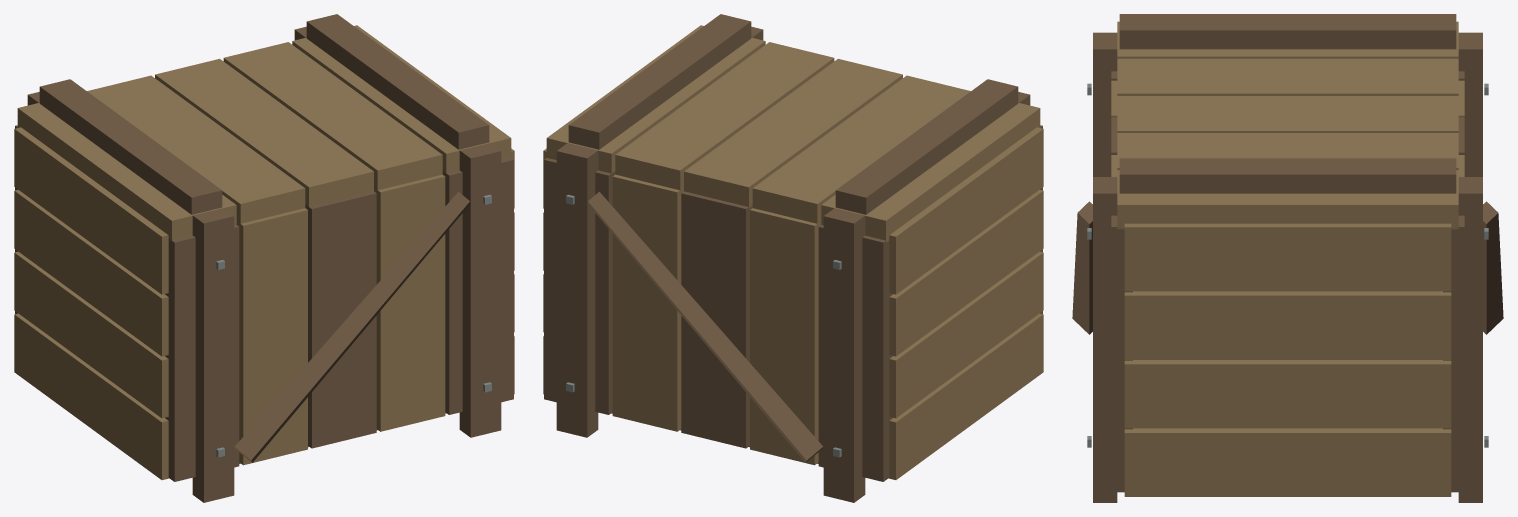
File: wooden_crate.glb
3 views of the same model, side by side, from view 1: azimuth 30°, elevation 25°; view 2: azimuth 150°, elevation 25°; view 3: azimuth 270°, elevation 25° (orthographic). The views are drawn at different scales.
Visible parts, largest first — view 1: wooden_crate_visual; view 2: wooden_crate_visual; view 3: wooden_crate_visual.
Boxes of the visible parts, bbox=[...] form: wooden_crate_visual: bbox=[14, 14, 514, 502]; wooden_crate_visual: bbox=[543, 14, 1043, 502]; wooden_crate_visual: bbox=[1072, 14, 1503, 502].
Size of the model in its own units: 0.925 by 0.7425 by 0.884.
